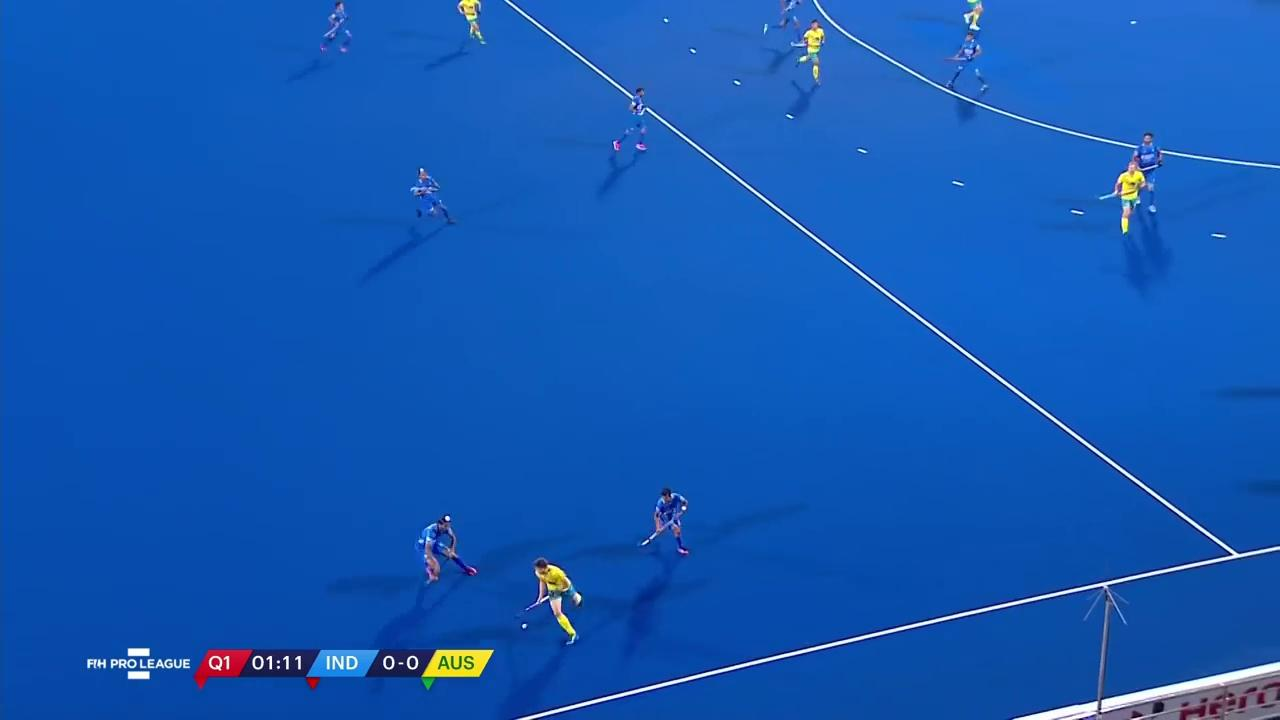ball: (518, 617, 535, 633)
